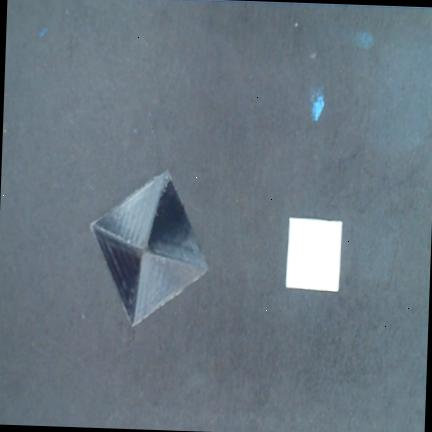Piramide: (91, 172, 207, 327), (285, 218, 342, 292)
